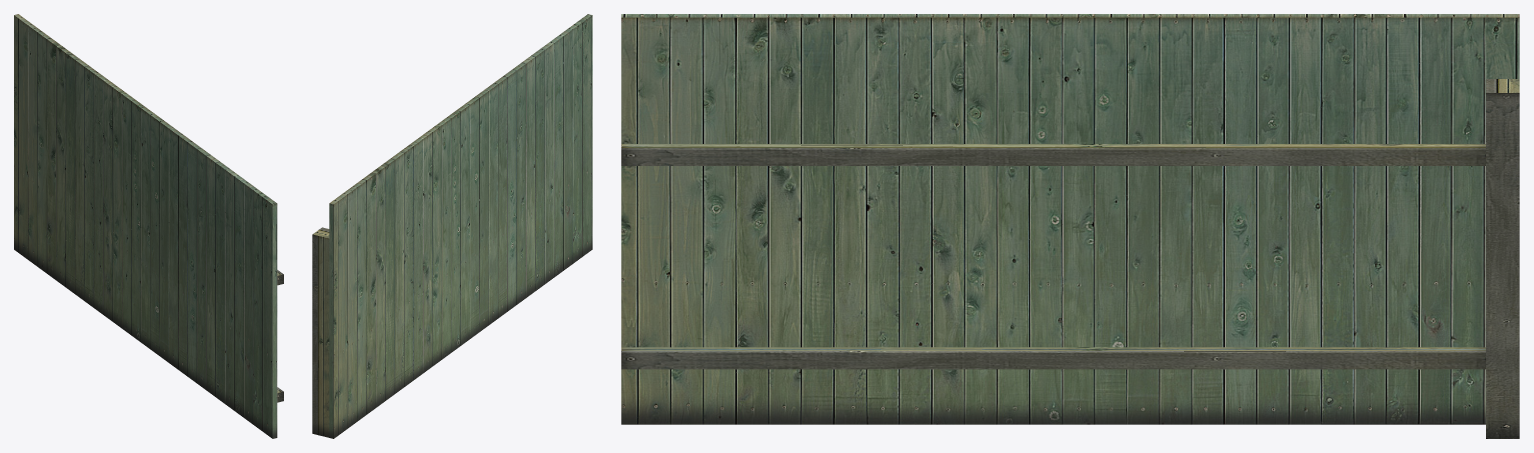
File: sibir_zabor_derevo5.FBX
The picture shows the model from 3 angles, left to right: view 1: azimuth 30°, elevation 25°; view 2: azimuth 150°, elevation 25°; view 3: azimuth 270°, elevation 25°; orthographic projection. The views are drawn at different scales.
Parts seen in each view (by area): view 1: sibir_zabor_derevo5; view 2: sibir_zabor_derevo5; view 3: sibir_zabor_derevo5.
Boxes of the visible parts, x1,y1,x2,y2 form: sibir_zabor_derevo5: [14, 14, 283, 438]; sibir_zabor_derevo5: [312, 14, 592, 438]; sibir_zabor_derevo5: [621, 14, 1519, 438].
Bounding box in the file's own units: 19.02 × 400 × 200.
